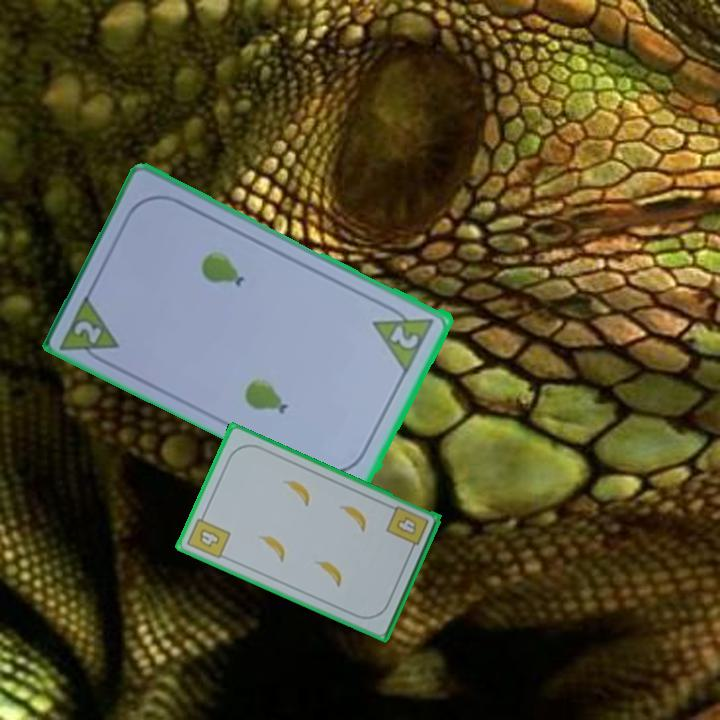2p: (57, 289, 124, 370), (370, 299, 438, 374)
4b: (183, 508, 233, 562), (383, 502, 431, 555)
